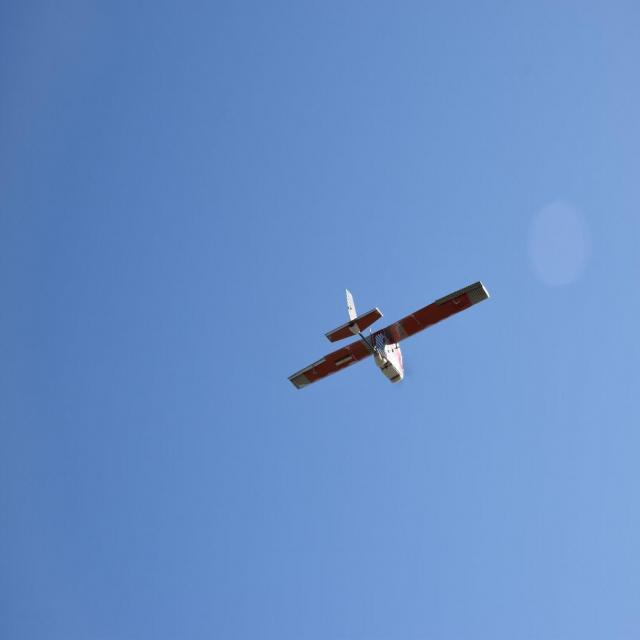UAV: (286, 282, 510, 389)
